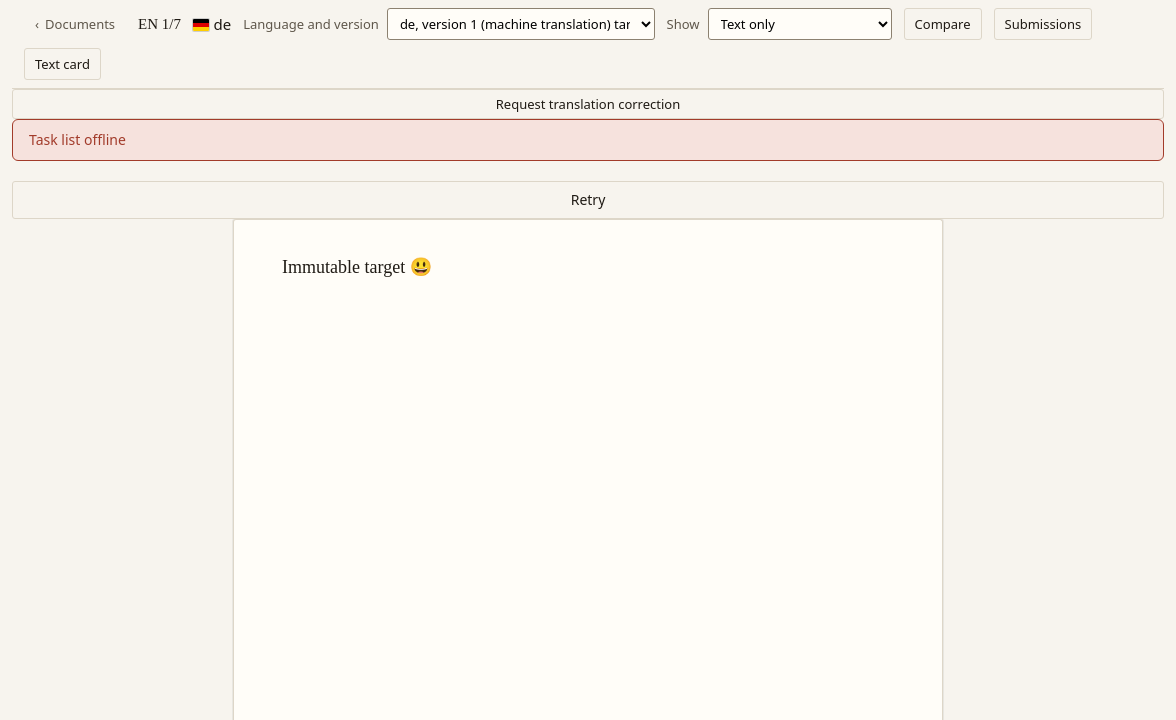
Test: clears task-list failure after a successful explicit retry
Expected: the text "Task list offline" is shown, [29, 130, 126, 150]
Step 1. Click the button "Retry" → {"x": 588, "y": 200}, box [12, 181, 1164, 219]
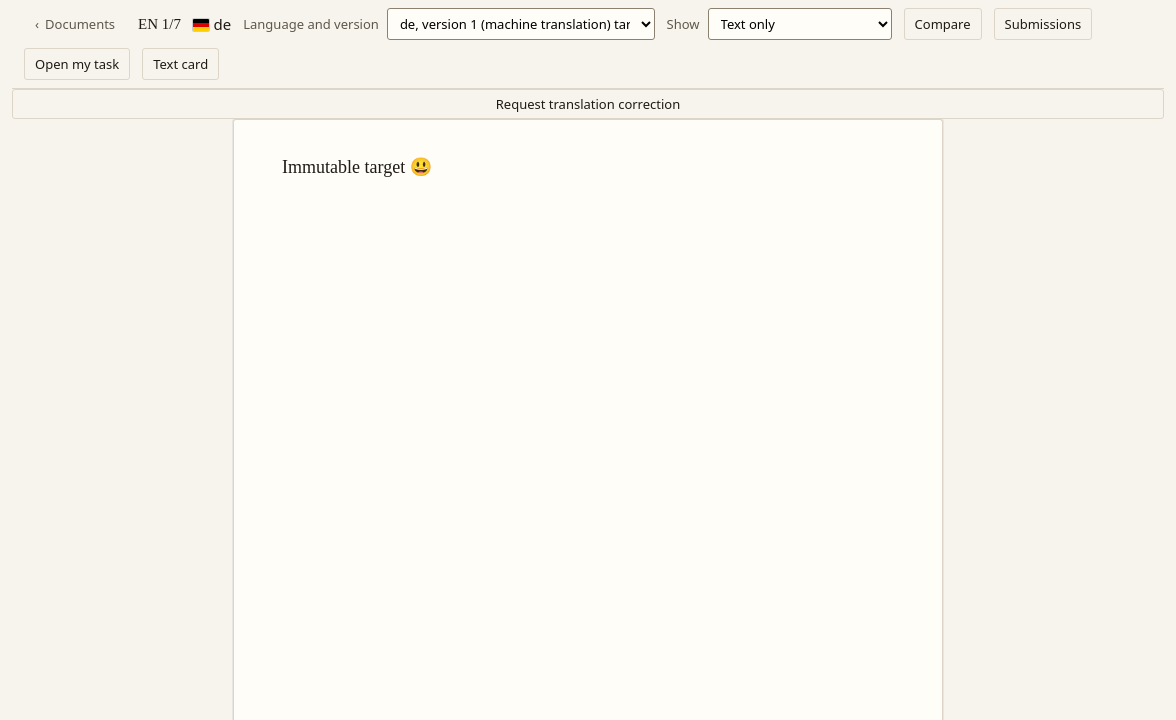
Result: the link "Open my task" is shown at [24, 48, 130, 80]
Result: the text "Task list offline" is gone
Result: the button "Retry" is gone
